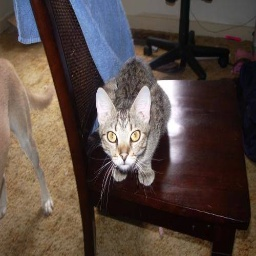cat: (94, 57, 170, 189)
